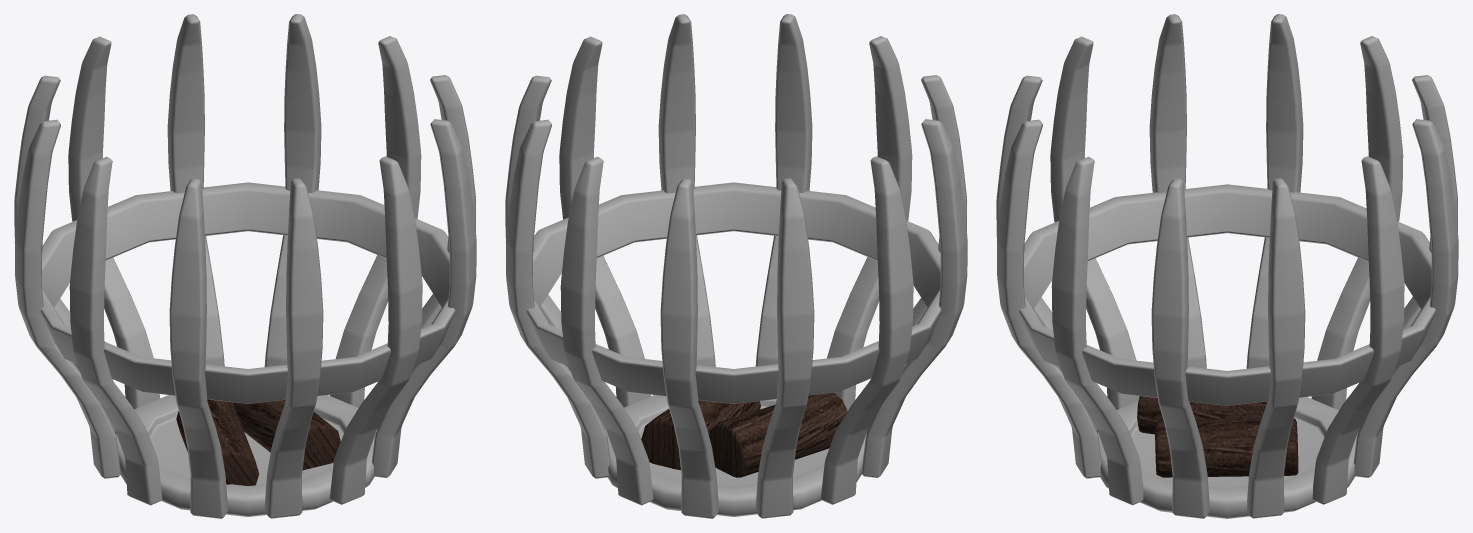
The model's file is Wall_InsetBrazier.fbx.
3 renders of one model, left to right at view 1: azimuth 30°, elevation 25°; view 2: azimuth 150°, elevation 25°; view 3: azimuth 270°, elevation 25°, orthographic.
Visible parts, largest first — view 1: Brazier; view 2: Brazier; view 3: Brazier.
Boxes of the visible parts, x1,y1,x2,y2 form: Brazier: (14,14,476,518); Brazier: (505,14,967,518); Brazier: (996,14,1458,518).
Size of the model in its own units: 330 by 286 by 330.
2 materials, 1 textured.
